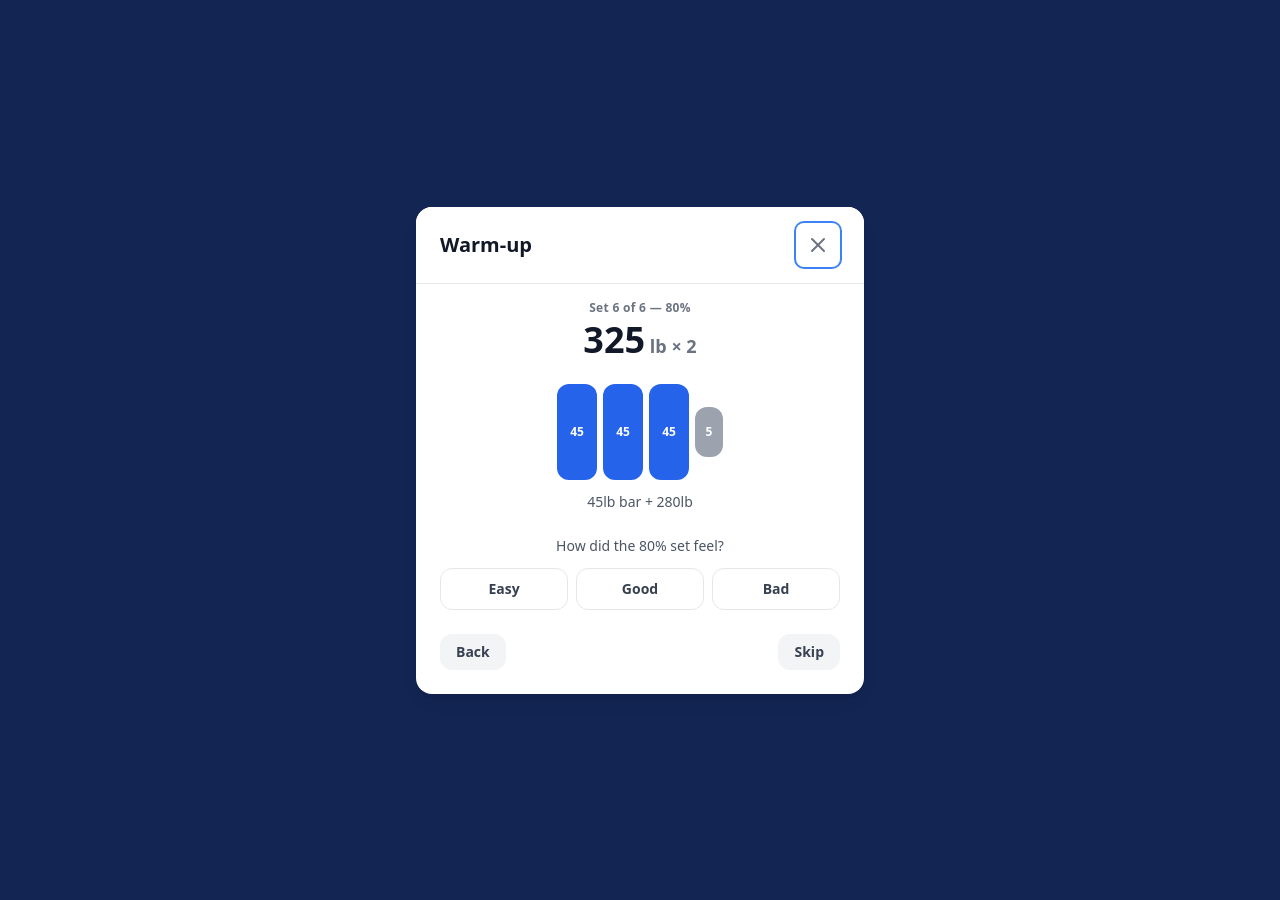
Test case: WarmupFlow › skipping the feel on the last set skips the approach single too
Click the button "Skip".
click(809, 652)  # box [778, 634, 840, 670]
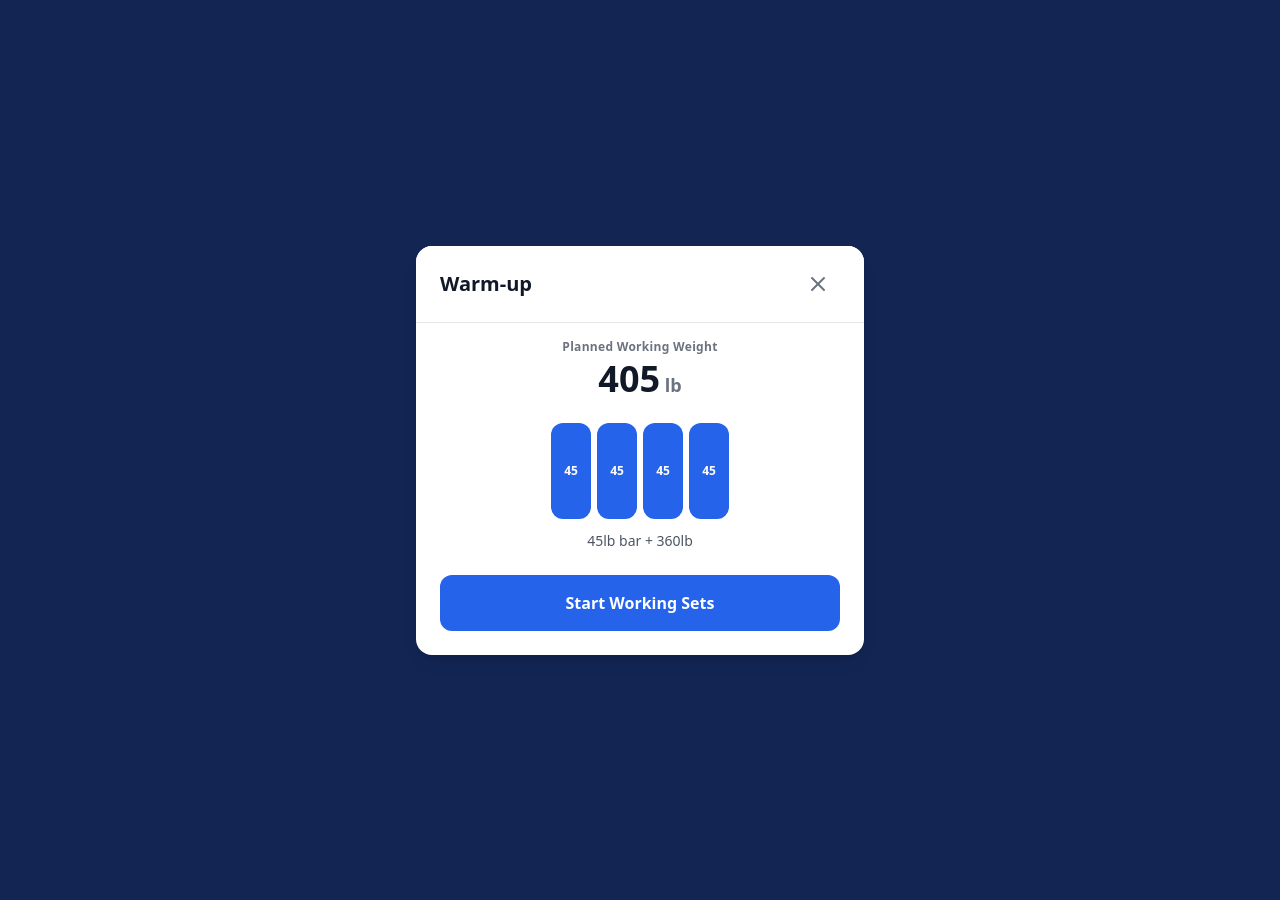
Check: the text "Planned Working Weight" is shown, box [562, 338, 718, 354]
